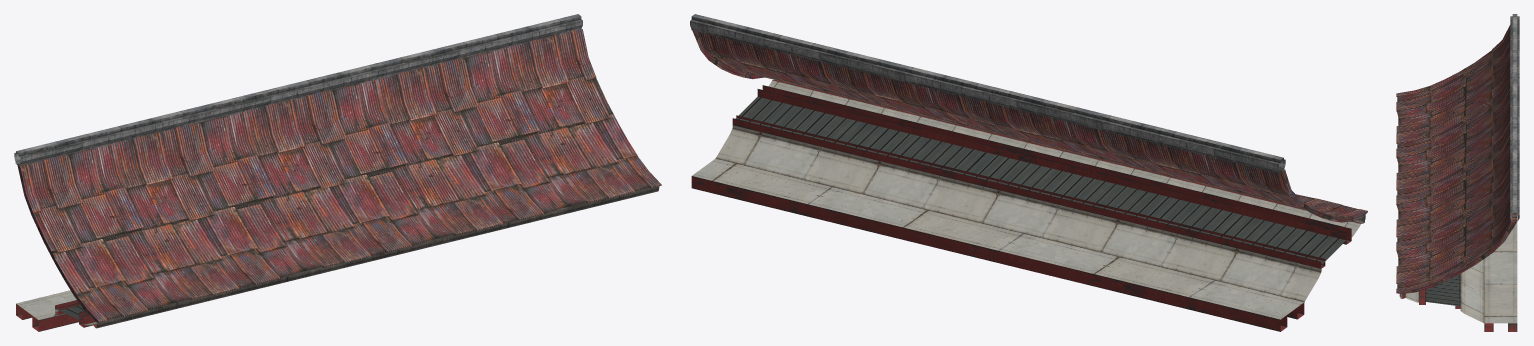
The model's file is Pagoda_Tile_Roof_10000x2500_A.FBX.
3 renders of one model, left to right at view 1: azimuth 30°, elevation 25°; view 2: azimuth 150°, elevation 25°; view 3: azimuth 270°, elevation 25°, orthographic. The views are drawn at different scales.
Visible parts, largest first — view 1: Geometry_Pagoda_Tile_Roof_10000x2500_A_LOD00; view 2: Geometry_Pagoda_Tile_Roof_10000x2500_A_LOD00; view 3: Geometry_Pagoda_Tile_Roof_10000x2500_A_LOD00.
Part boxes in pixels (x1,y1,x2,y2): Geometry_Pagoda_Tile_Roof_10000x2500_A_LOD00: (14,14,661,331); Geometry_Pagoda_Tile_Roof_10000x2500_A_LOD00: (690,14,1367,331); Geometry_Pagoda_Tile_Roof_10000x2500_A_LOD00: (1396,14,1519,331).
Size of what is drawn, in the model's own units: 10000 by 2789 by 2618.
Materials: 3 (3 with a texture image).
